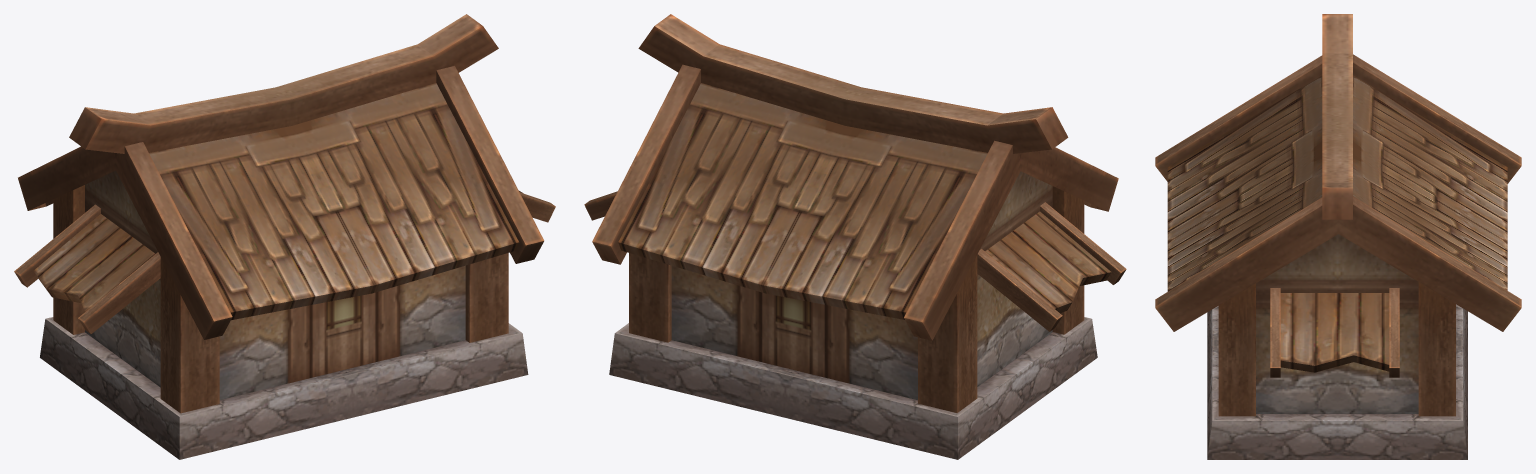
The model's file is FB_CunLuo_Fangwu02.FBX.
3 views of the same model, side by side, from view 1: azimuth 30°, elevation 25°; view 2: azimuth 150°, elevation 25°; view 3: azimuth 270°, elevation 25° (orthographic). The views are drawn at different scales.
Parts seen in each view (by area): view 1: Box01; view 2: Box01; view 3: Box01.
Boxes of the visible parts, <box> form: Box01: <box>14,14,555,459</box>; Box01: <box>584,14,1126,459</box>; Box01: <box>1155,14,1521,459</box>.
Size of the model in its own units: 11.22 by 6.8 by 8.07.
